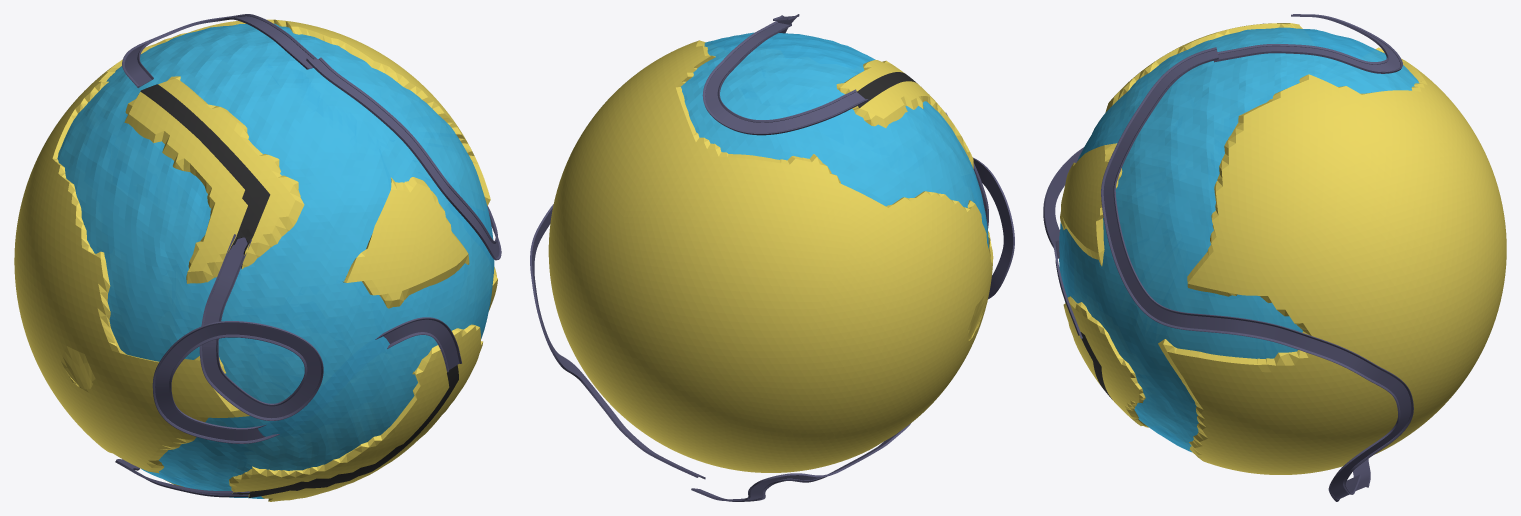
The model's file is OceanPlanetTracked.fbx.
The picture shows the model from 3 angles, left to right: view 1: azimuth 30°, elevation 25°; view 2: azimuth 150°, elevation 25°; view 3: azimuth 270°, elevation 25°; orthographic projection. The views are drawn at different scales.
Visible parts, largest first — view 1: Wasser, WasserFlipped, Landnegative, Tracksegment02, Tracksegment04, Tracksegment01, Tracksegment03; view 2: Landnegative, Wasser, WasserFlipped, Tracksegment01, Tracksegment04, Tracksegment02, Tracksegment03; view 3: Landnegative, Wasser, WasserFlipped, Tracksegment04, Tracksegment01, Tracksegment02.
Boxes of the visible parts, <box> form: Wasser: <box>57,23,494,498</box>; WasserFlipped: <box>57,24,494,498</box>; Landnegative: <box>14,19,497,501</box>; Tracksegment02: <box>152,234,461,443</box>; Tracksegment04: <box>306,57,501,260</box>; Tracksegment01: <box>122,14,316,87</box>; Tracksegment03: <box>115,459,257,497</box>; Landnegative: <box>548,40,993,472</box>; Wasser: <box>681,32,988,248</box>; WasserFlipped: <box>681,33,988,247</box>; Tracksegment01: <box>702,21,867,135</box>; Tracksegment04: <box>530,14,799,479</box>; Tracksegment02: <box>945,112,1014,299</box>; Tracksegment03: <box>691,423,910,501</box>; Landnegative: <box>1060,23,1506,474</box>; Wasser: <box>1059,27,1418,452</box>; WasserFlipped: <box>1059,27,1418,451</box>; Tracksegment04: <box>1101,47,1413,501</box>; Tracksegment01: <box>1214,14,1402,73</box>; Tracksegment02: <box>1043,147,1083,338</box>.
Bounding box in the file's own units: 63649 × 66514 × 63580.
